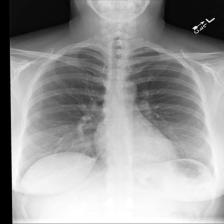normal: (23, 32, 218, 191)
